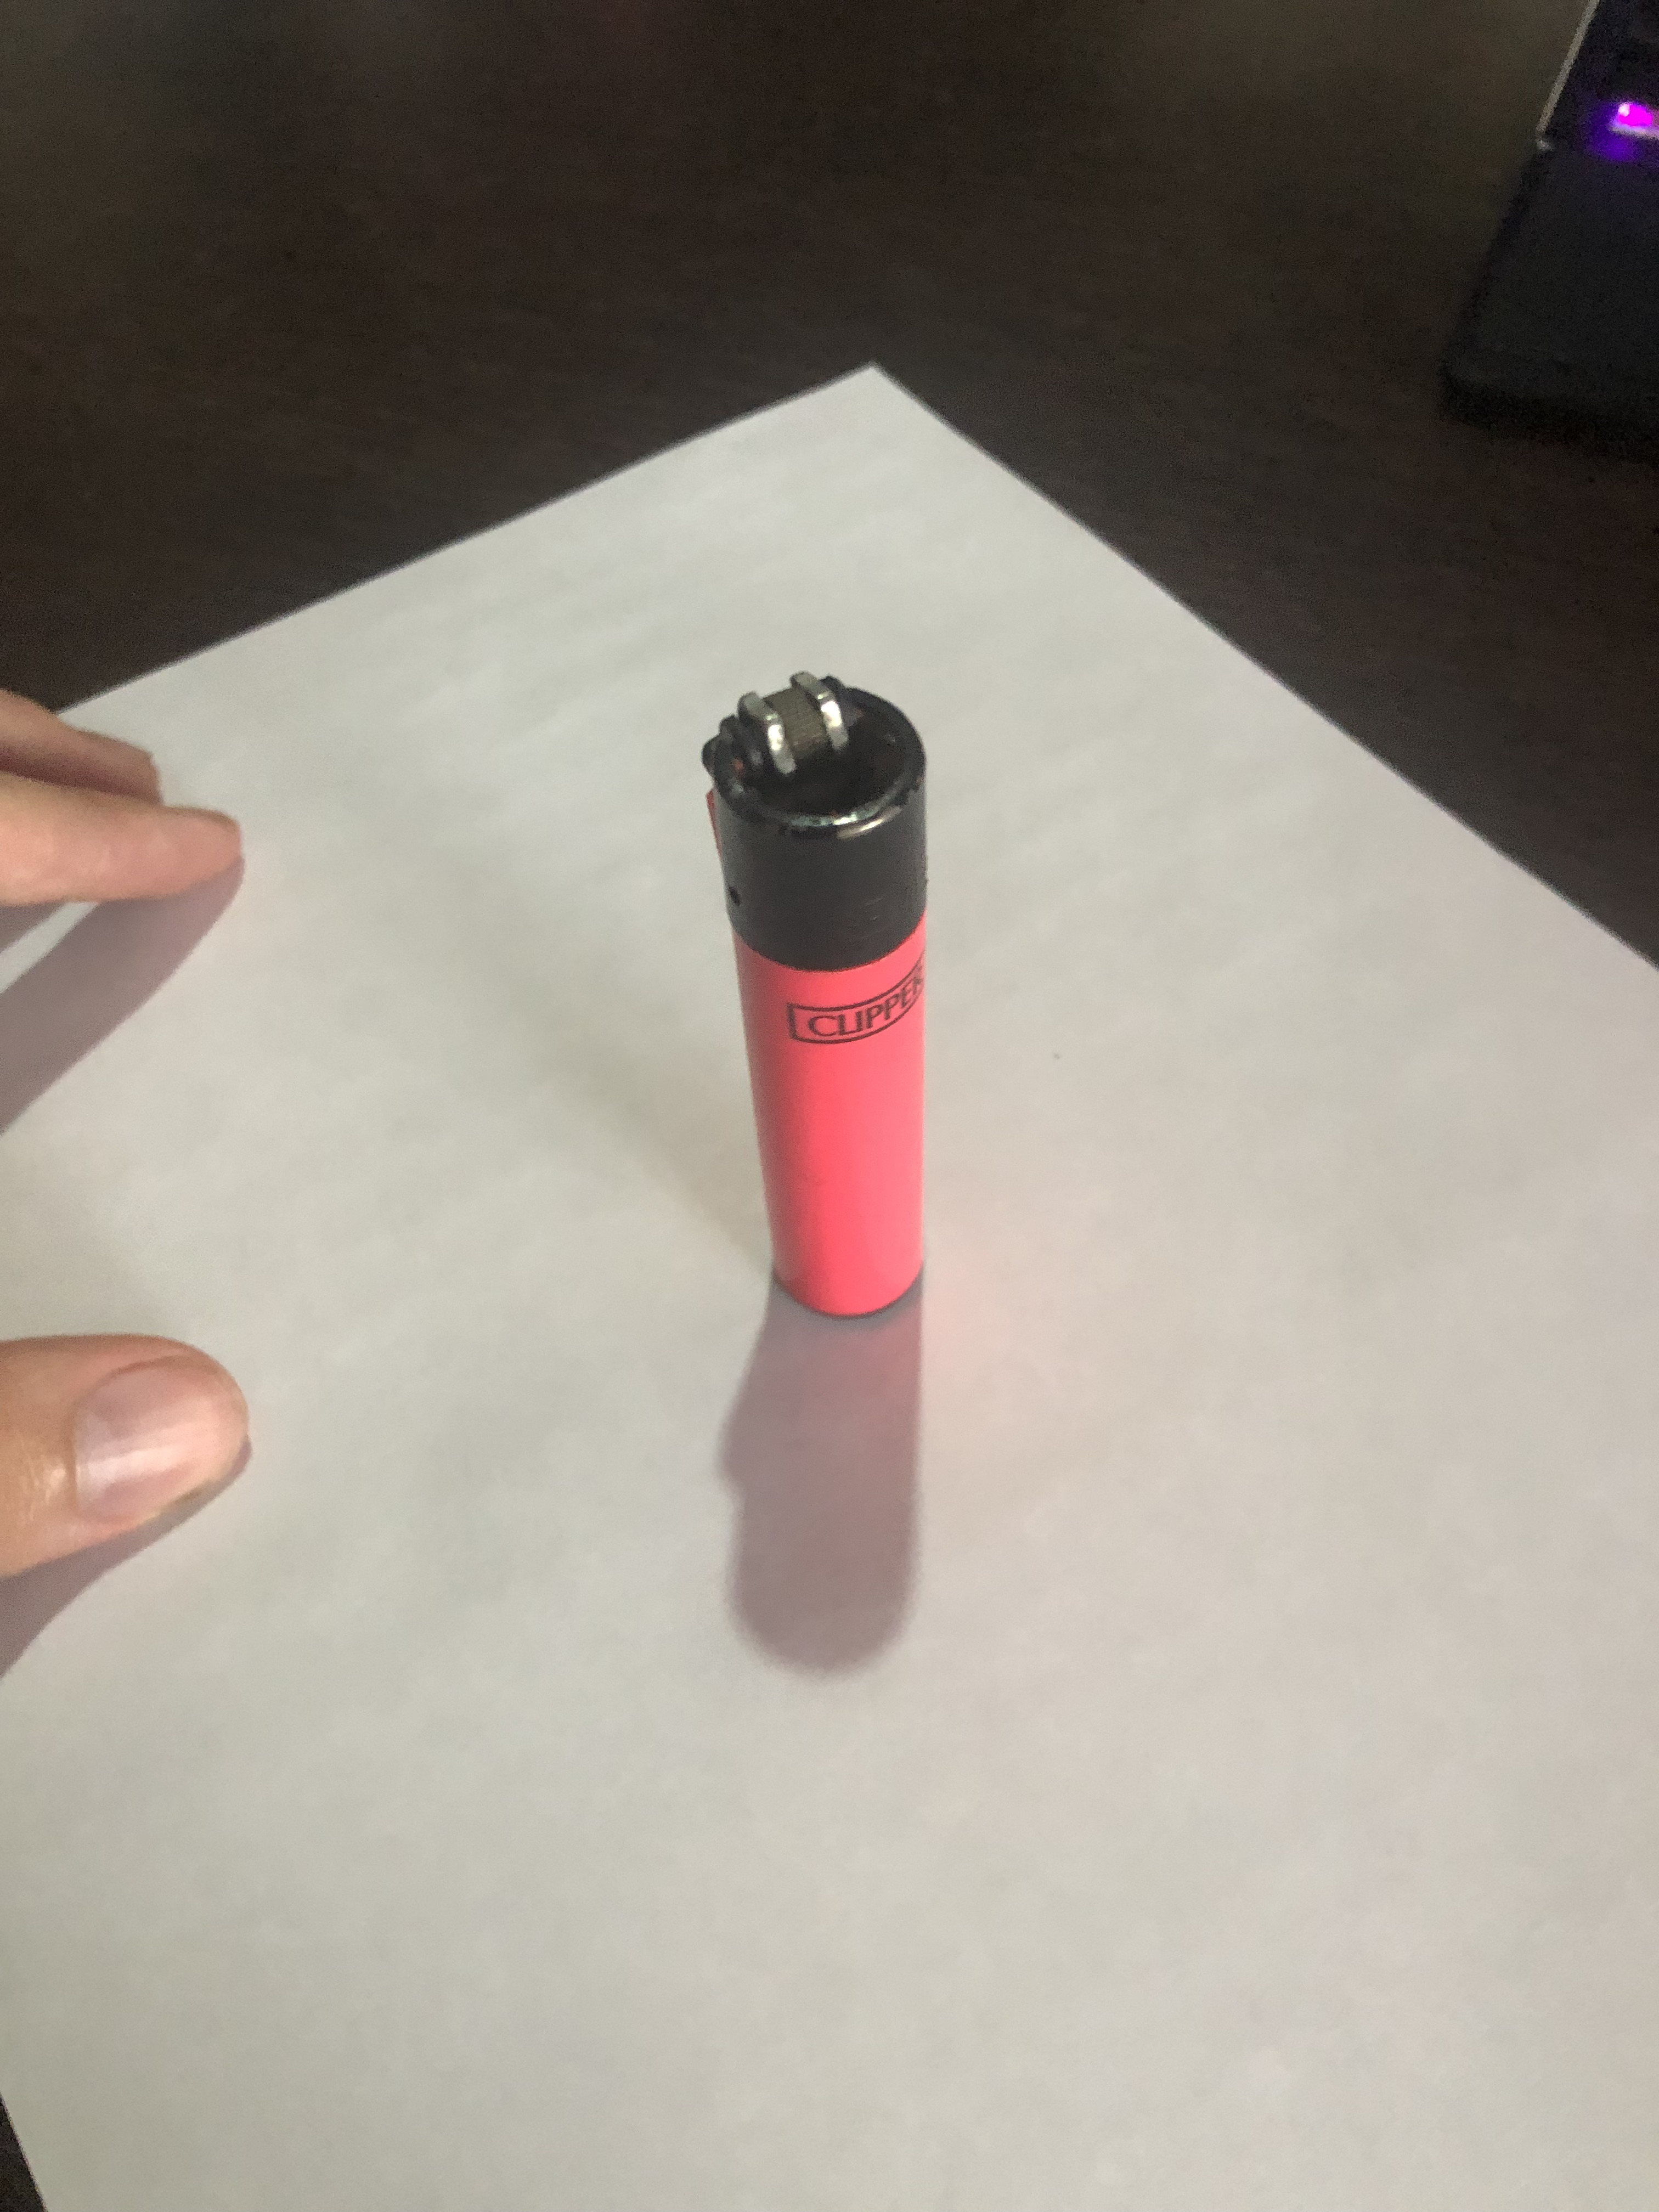Mechero: (674, 676, 979, 1324)
